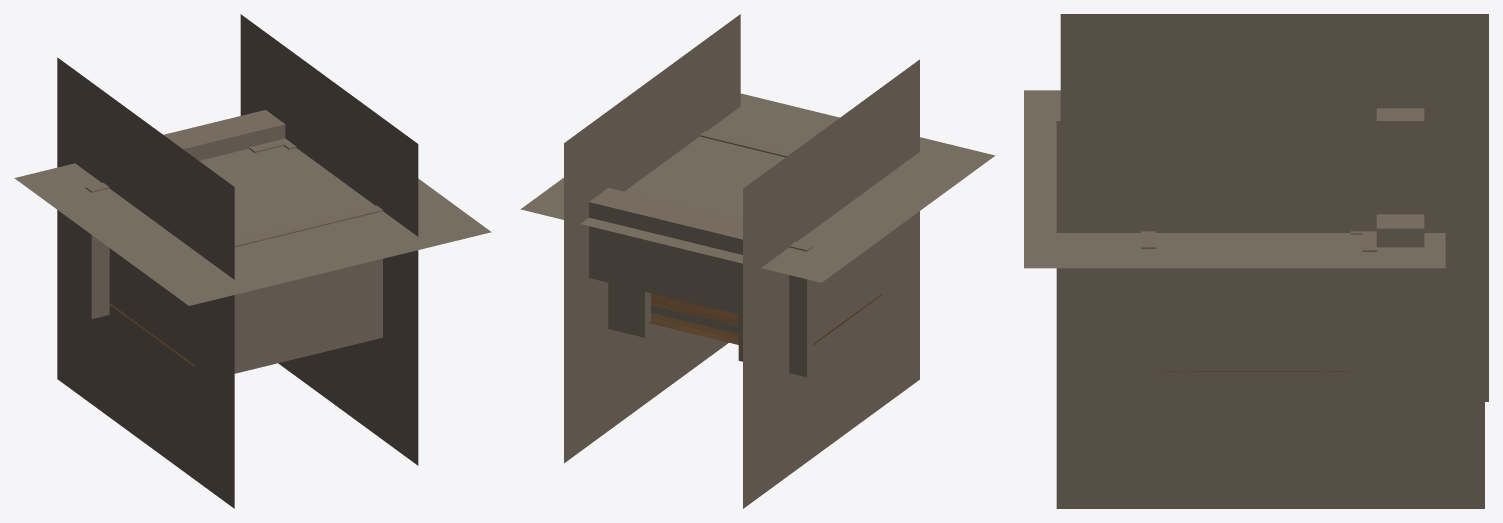
Rendered from Walls.glb.
3 views of the same model, side by side, from view 1: azimuth 30°, elevation 25°; view 2: azimuth 150°, elevation 25°; view 3: azimuth 270°, elevation 25° (orthographic). The views are drawn at different scales.
Parts seen in each view (by area): view 1: Walls; view 2: Walls; view 3: Walls.
Boxes of the visible parts, x1,y1,x2,y2 form: Walls: (14, 14, 491, 508); Walls: (520, 14, 995, 508); Walls: (1024, 14, 1488, 508).
Size of the model in its own units: 1912 by 1942 by 2108.
5 materials, 5 textured.
